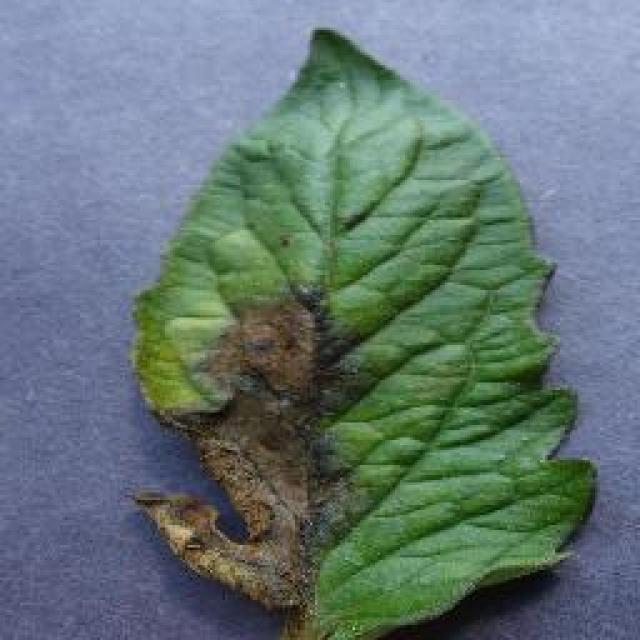Tomato Late Blight: (165, 161, 386, 640)
